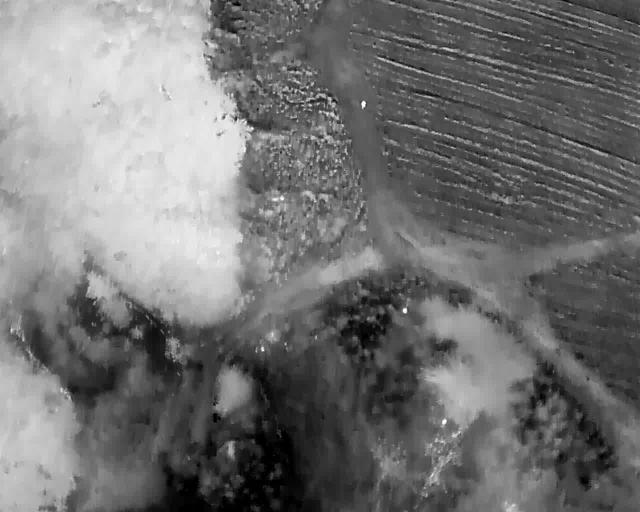person: (361, 100, 365, 109)
